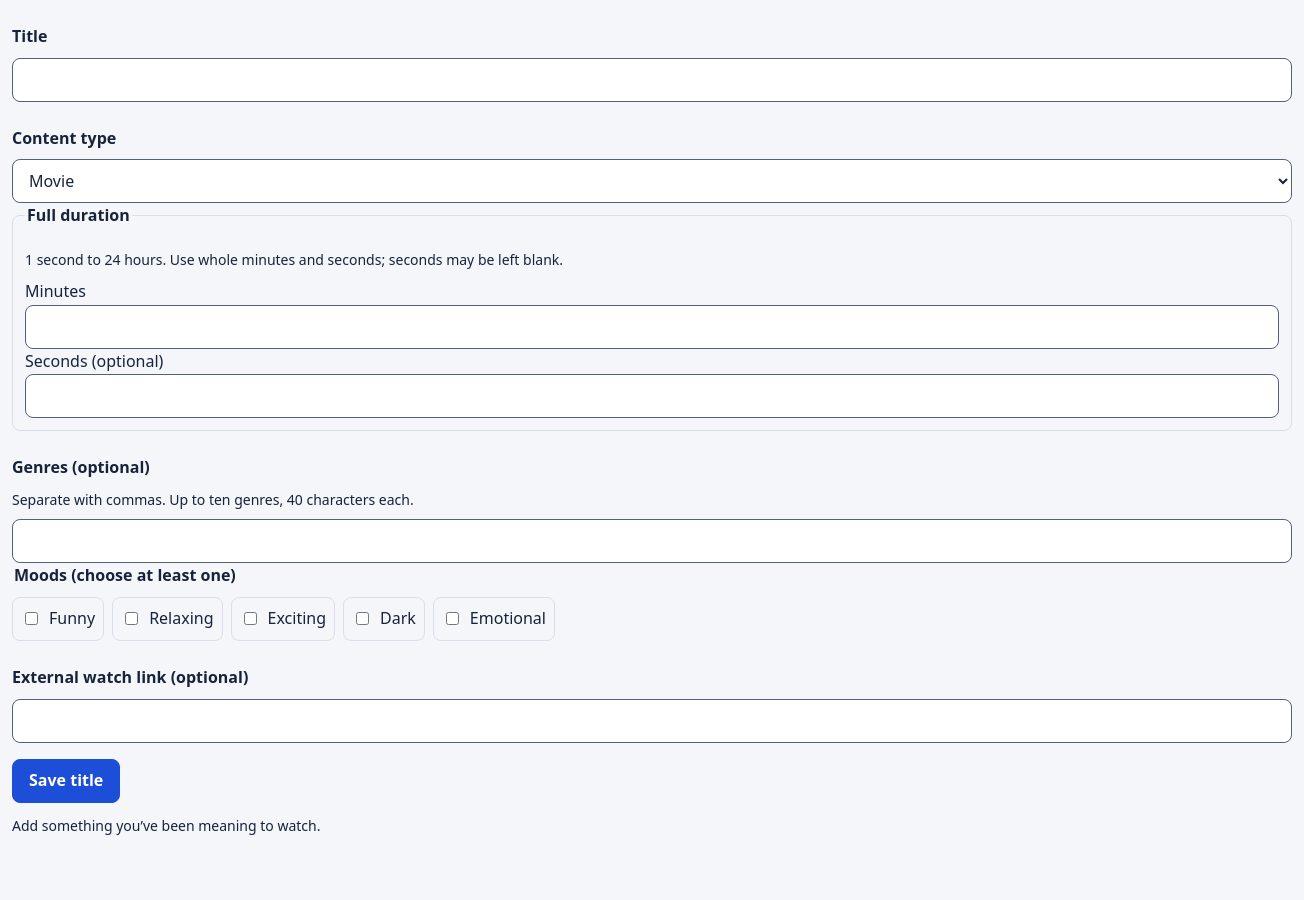
it: disables pending submissions and announces a safe retryable failure
The image size is (1304, 900).
Click the button "Save title" at [66, 780], box [12,758,120,802]
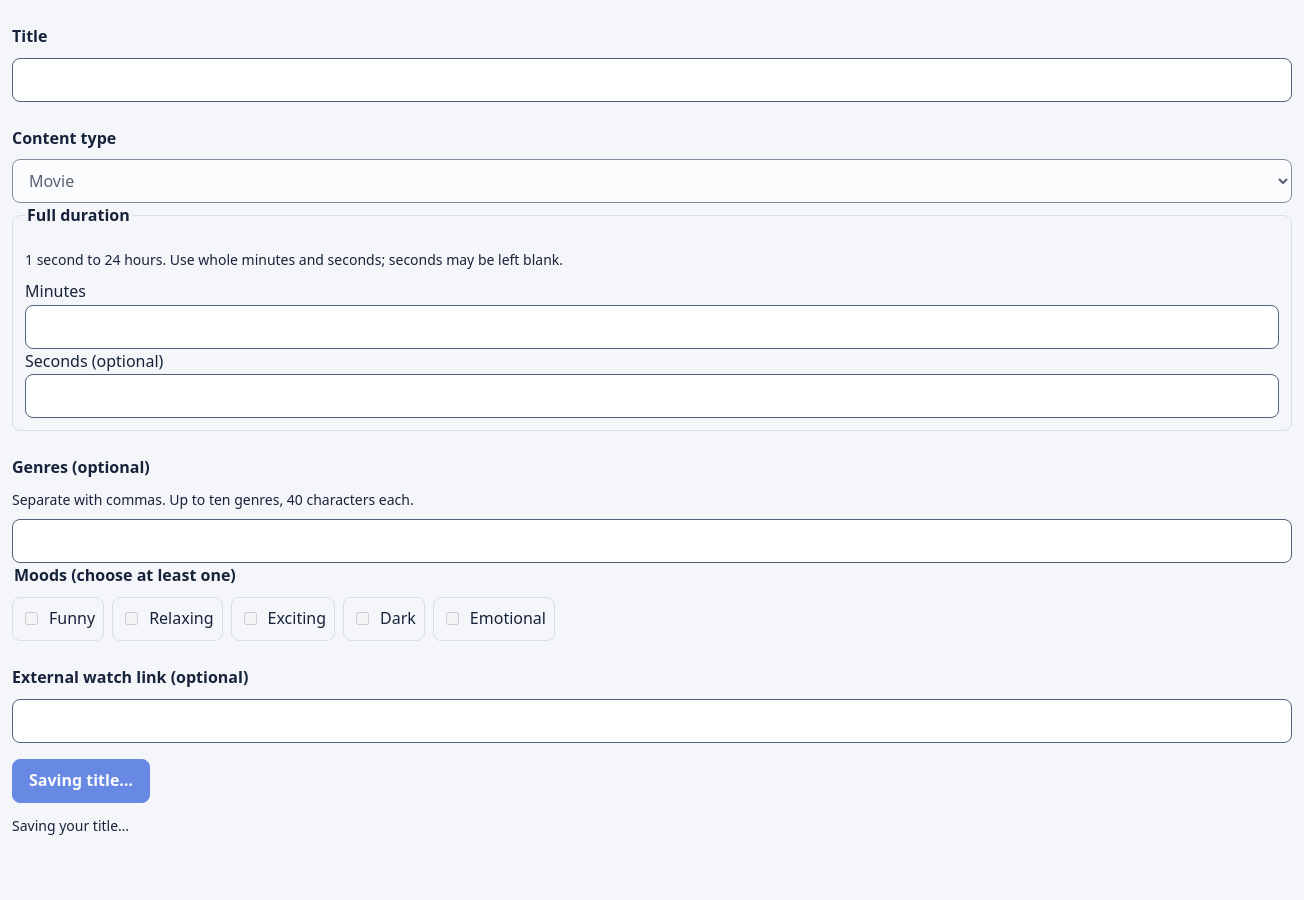
Now the element named "Saving title…" is disabled
Click the button "Saving title…" at [81, 780], box [12,758,150,802]
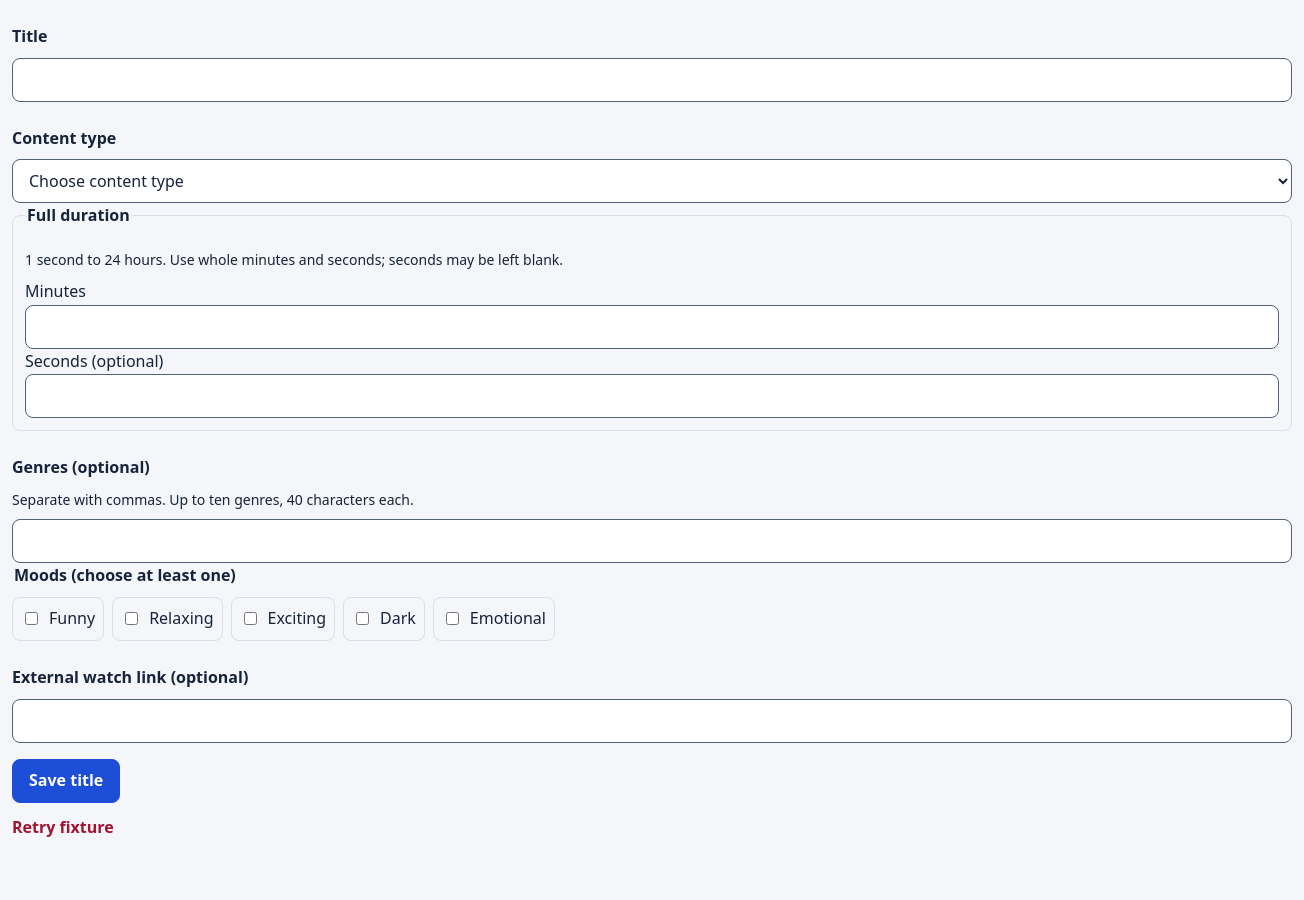
Now the message "Retry fixture" is shown, box [12,816,114,838]
Now the button "Save title" is shown, box [12,758,120,802]
